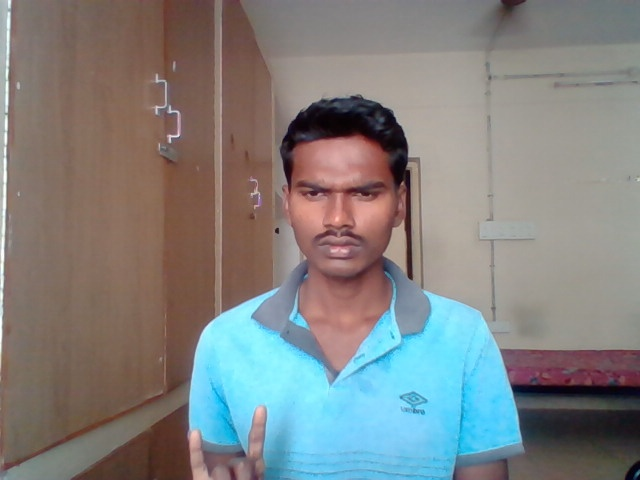I Love You: (184, 402, 272, 480)
